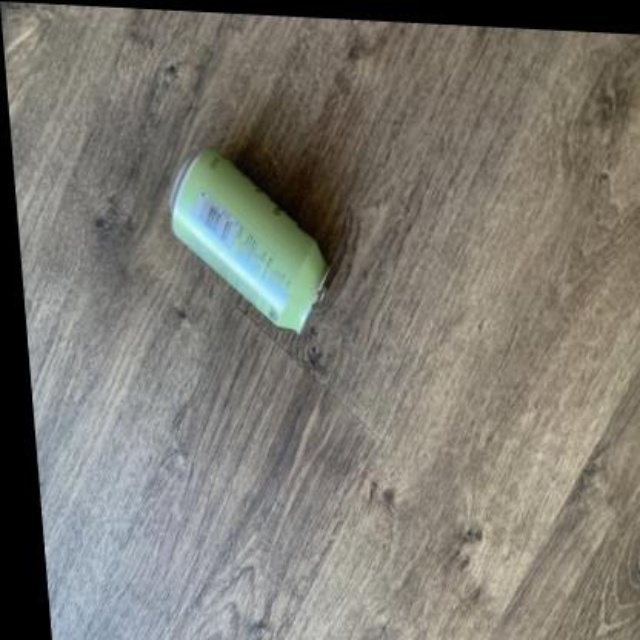trash: (171, 148, 326, 331)
